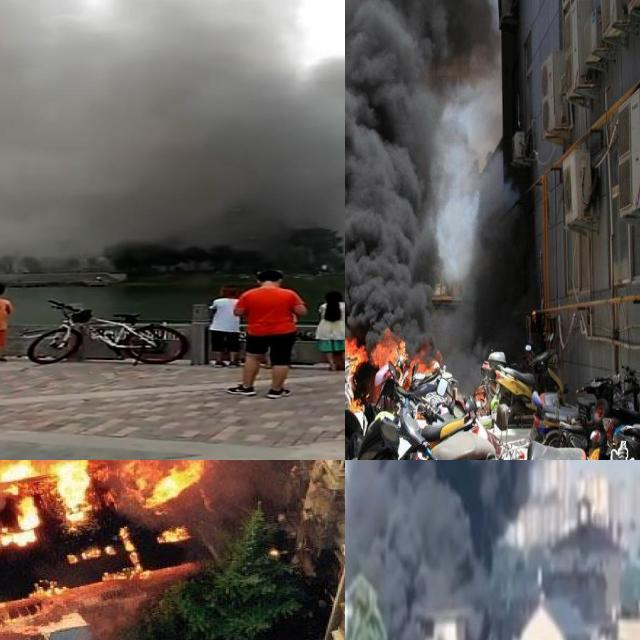fire: (0, 460, 214, 608), (345, 324, 436, 382)
smoke: (0, 0, 345, 263), (345, 0, 504, 379), (345, 460, 640, 601)
